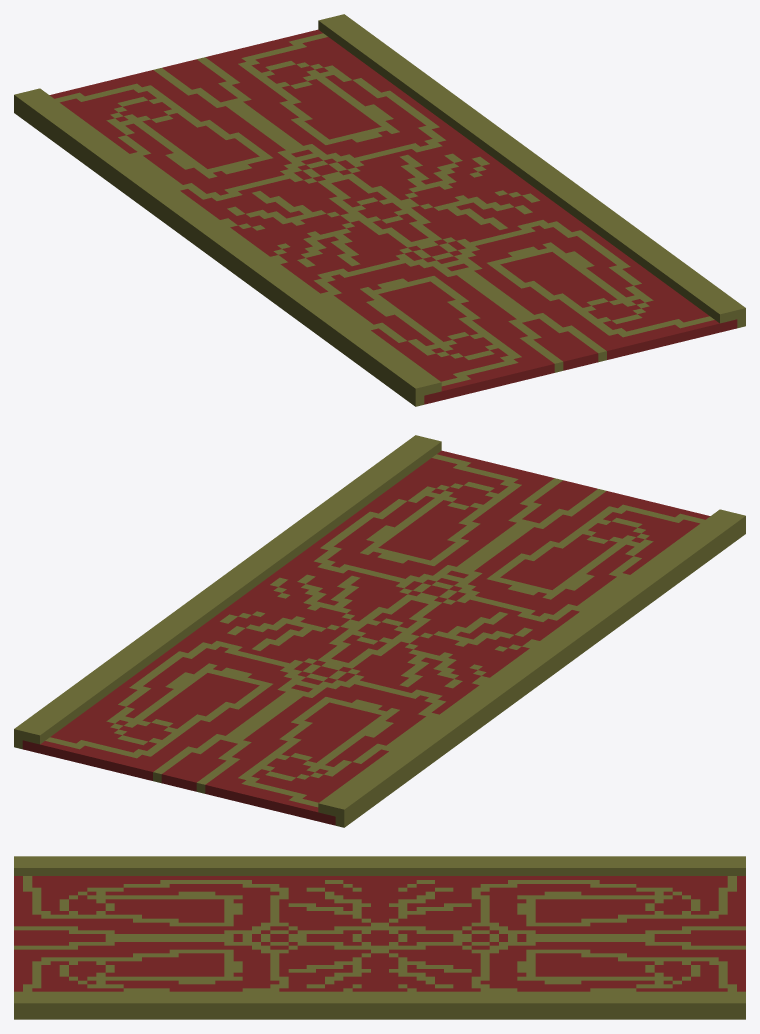
File: Carpet1.obj
3 renders of one model, top to bottom at view 1: azimuth 30°, elevation 25°; view 2: azimuth 150°, elevation 25°; view 3: azimuth 270°, elevation 25°, orthographic. The views are drawn at different scales.
Visible parts, largest first — view 1: Carpet1; view 2: Carpet1; view 3: Carpet1.
Boxes of the visible parts, x1,y1,x2,y2 form: Carpet1: (14,14,745,406); Carpet1: (14,435,745,827); Carpet1: (14,856,745,1019).
Size of the model in its own units: 38 by 2 by 80.
Materials: 1 (1 with a texture image).
